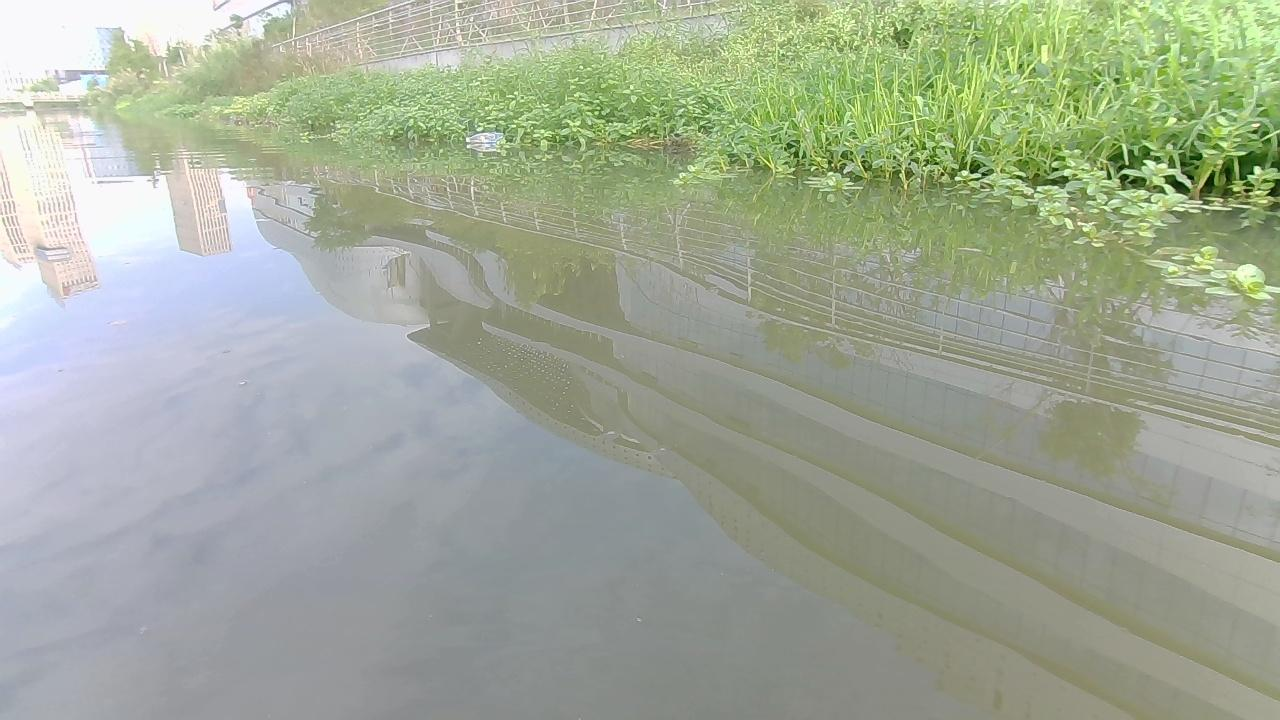bottle: (461, 128, 503, 147)
